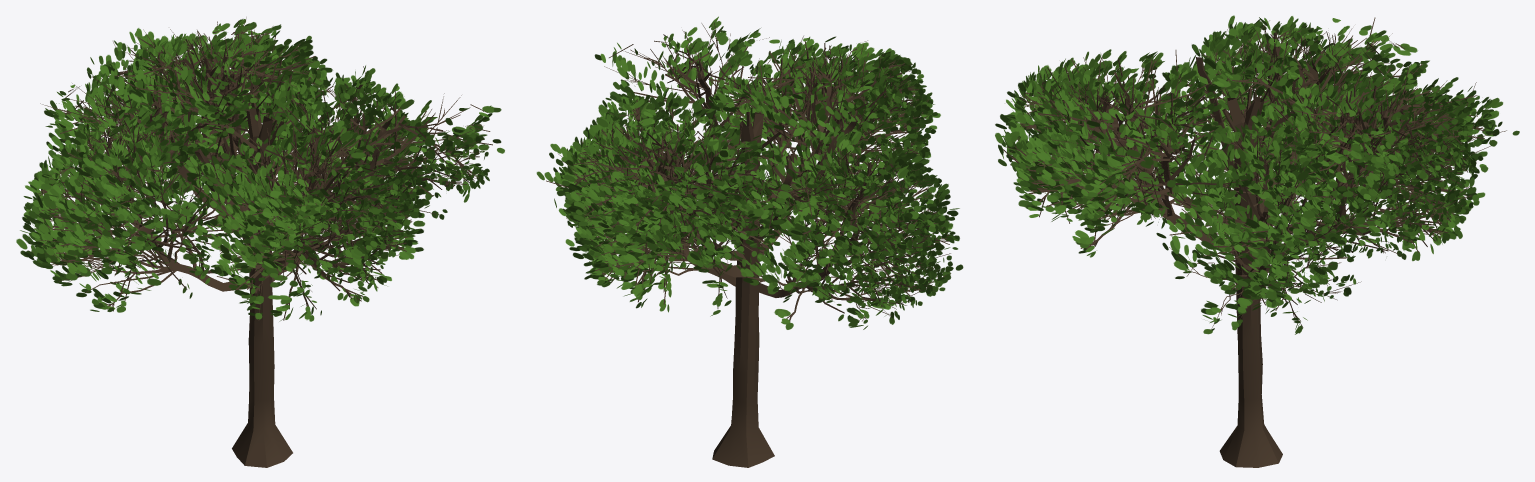
3 renders of one model, left to right at view 1: azimuth 30°, elevation 25°; view 2: azimuth 150°, elevation 25°; view 3: azimuth 270°, elevation 25°, orthographic. The views are drawn at different scales.
Visible parts, largest first — view 1: oak 01.001_trunk_Mat.001_0.130; view 2: oak 01.001_trunk_Mat.001_0.130; view 3: oak 01.001_trunk_Mat.001_0.130.
Part boxes in pixels (<box>): oak 01.001_trunk_Mat.001_0.130: <box>16,17,504,467</box>; oak 01.001_trunk_Mat.001_0.130: <box>536,16,963,467</box>; oak 01.001_trunk_Mat.001_0.130: <box>995,15,1519,467</box>.
Size of the model in its own units: 6.46 by 5.32 by 6.77.
2 materials, 1 textured.
